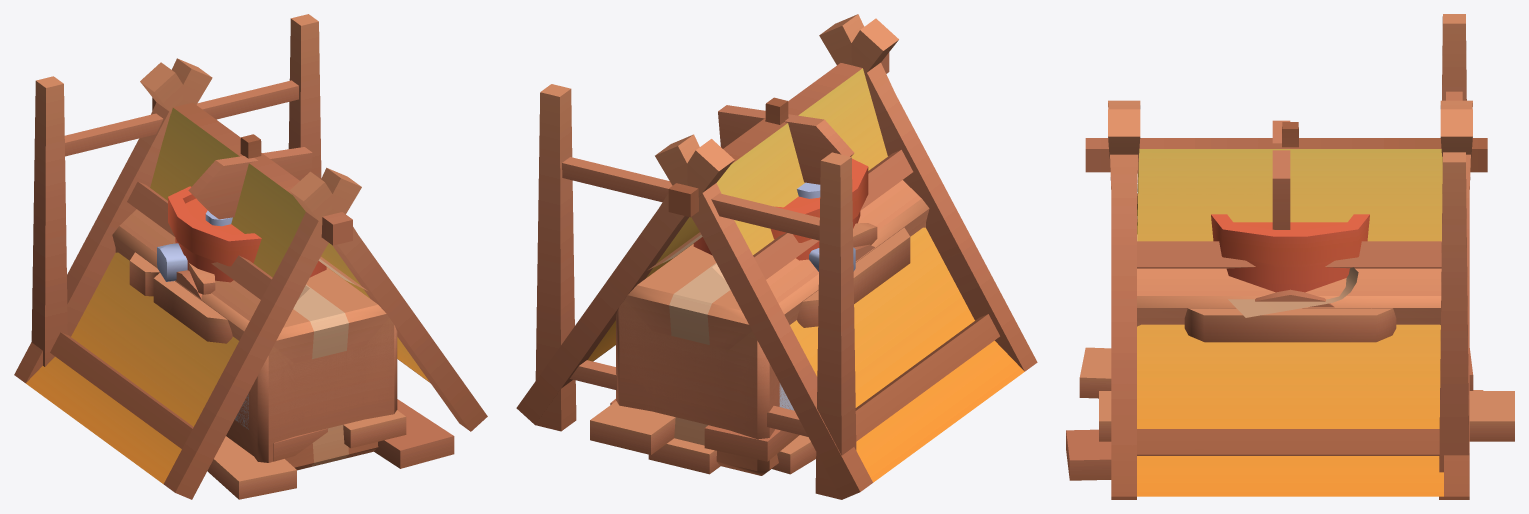
The model's file is camp.glb.
The picture shows the model from 3 angles, left to right: view 1: azimuth 30°, elevation 25°; view 2: azimuth 150°, elevation 25°; view 3: azimuth 270°, elevation 25°; orthographic projection. The views are drawn at different scales.
Parts seen in each view (by area): view 1: tent, tent-canvas, box-large, fence, box-large-open, resource-planks, workbench, barrel, signpost, signpost-single, box-open; view 2: tent, tent-canvas, fence, box-large, box-large-open, resource-planks, workbench, signpost, barrel, signpost-single, box-open; view 3: tent-canvas, tent, fence, barrel, workbench, resource-planks, box-large-open, box-large, box-open, signpost, signpost-single, lid.
Boxes of the visible parts, box(x1,y1,x2,y2) form: tent: box(14, 58, 487, 499); tent-canvas: box(26, 108, 429, 483); box-large: box(112, 226, 397, 470); fence: box(31, 14, 321, 366); box-large-open: box(112, 209, 397, 467); resource-planks: box(207, 399, 454, 499); workbench: box(129, 243, 232, 343); barrel: box(168, 186, 326, 282); signpost: box(188, 136, 312, 219); signpost-single: box(198, 134, 312, 218); box-open: box(145, 233, 327, 302); tent: box(516, 14, 1037, 499); tent-canvas: box(587, 68, 1024, 482); fence: box(535, 84, 856, 499); box-large: box(616, 198, 929, 475); box-large-open: box(616, 180, 929, 471); resource-planks: box(590, 399, 816, 474); workbench: box(797, 223, 910, 327); signpost: box(718, 98, 854, 184); barrel: box(693, 158, 868, 260); signpost-single: box(718, 97, 832, 180); box-open: box(692, 206, 893, 282); tent-canvas: box(1137, 149, 1443, 496); tent: box(1085, 100, 1487, 499); fence: box(1439, 14, 1469, 499); barrel: box(1211, 214, 1369, 292); workbench: box(1184, 267, 1396, 342); resource-planks: box(1066, 347, 1514, 480); box-large-open: box(1137, 216, 1441, 324); box-large: box(1137, 296, 1441, 326); box-open: box(1210, 268, 1370, 295); signpost: box(1272, 122, 1298, 216); signpost-single: box(1272, 120, 1298, 229); lid: box(1255, 289, 1334, 307).
Size of the model in its own units: 0.5608 by 0.5175 by 0.626.
Materials: 1 (1 with a texture image).
